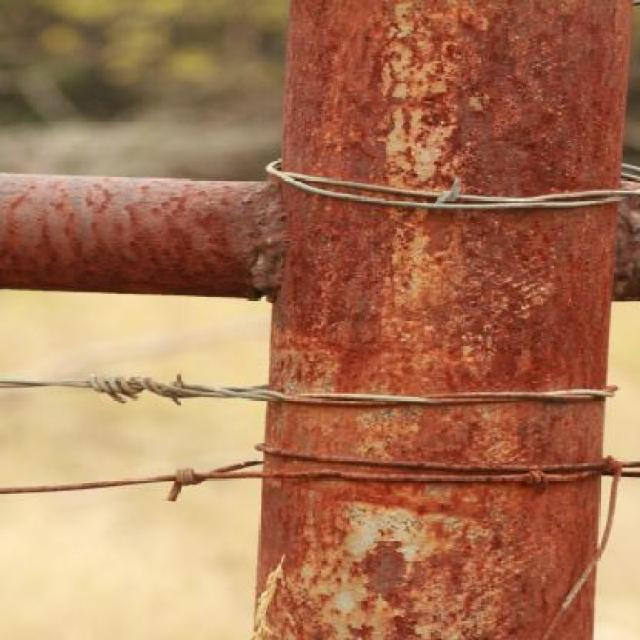corrosion: (261, 0, 640, 640), (1, 167, 258, 298)
